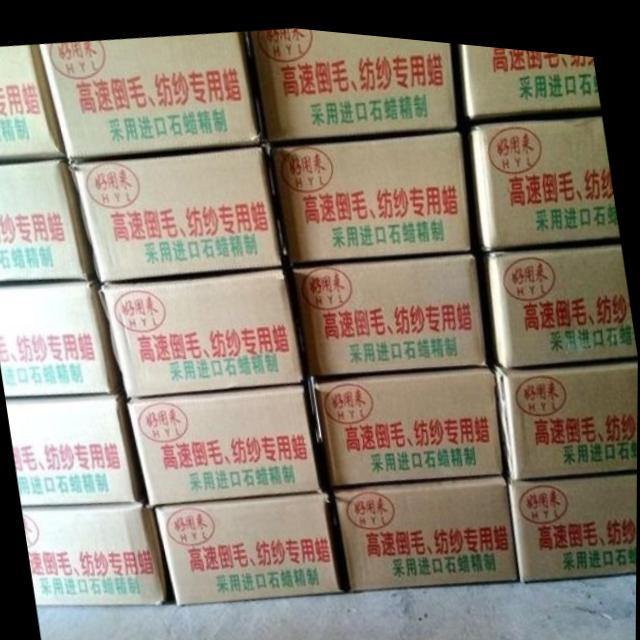box: (70, 142, 284, 284), (38, 28, 266, 161), (266, 124, 469, 260), (99, 264, 304, 397), (291, 245, 488, 372), (245, 23, 457, 141), (126, 379, 321, 505), (314, 357, 506, 481), (328, 466, 519, 583), (155, 486, 343, 603), (465, 103, 619, 244), (479, 231, 637, 357), (496, 346, 638, 469), (6, 388, 147, 506), (23, 499, 168, 606), (0, 279, 123, 401), (507, 457, 638, 571), (451, 34, 600, 115), (0, 158, 95, 280), (0, 46, 67, 162)
